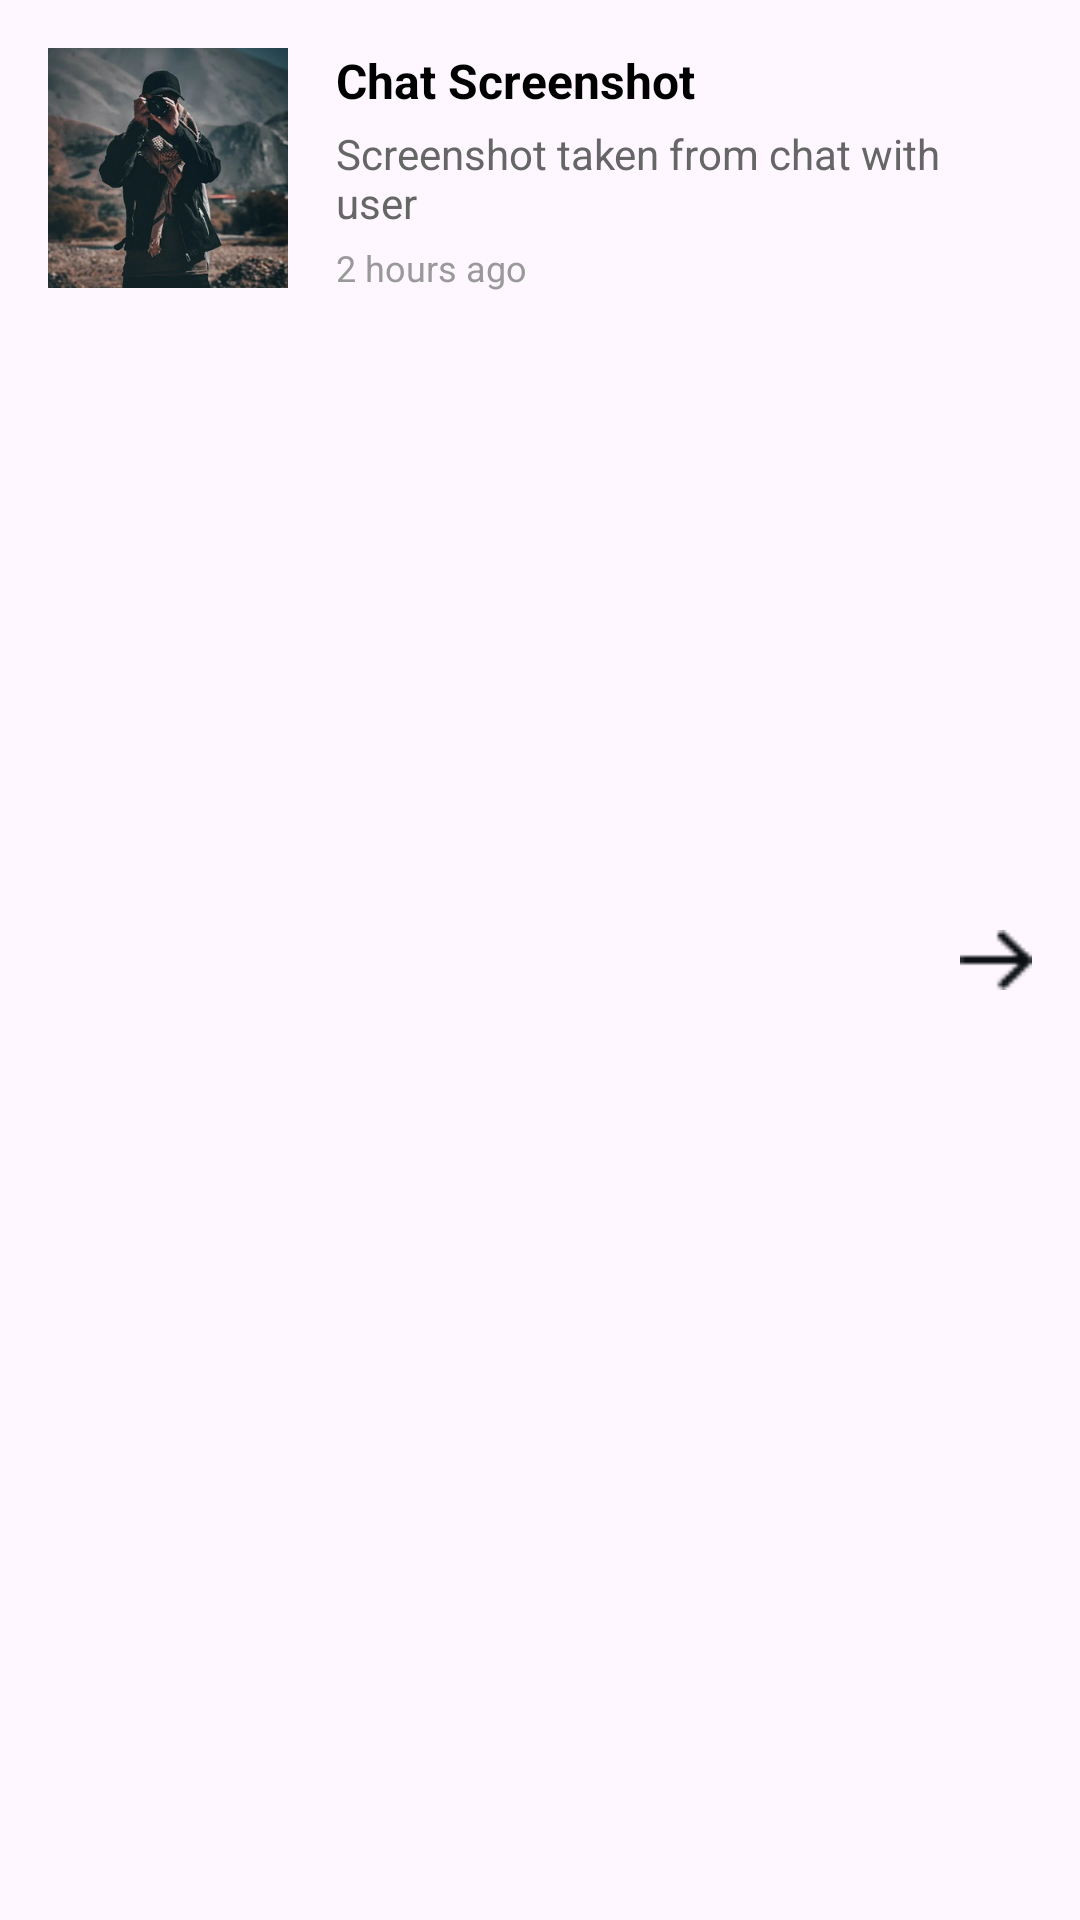

Where to tap for icons on this 1080*1920 app screen, as [x,y]:
arrow forward: [996,960]
